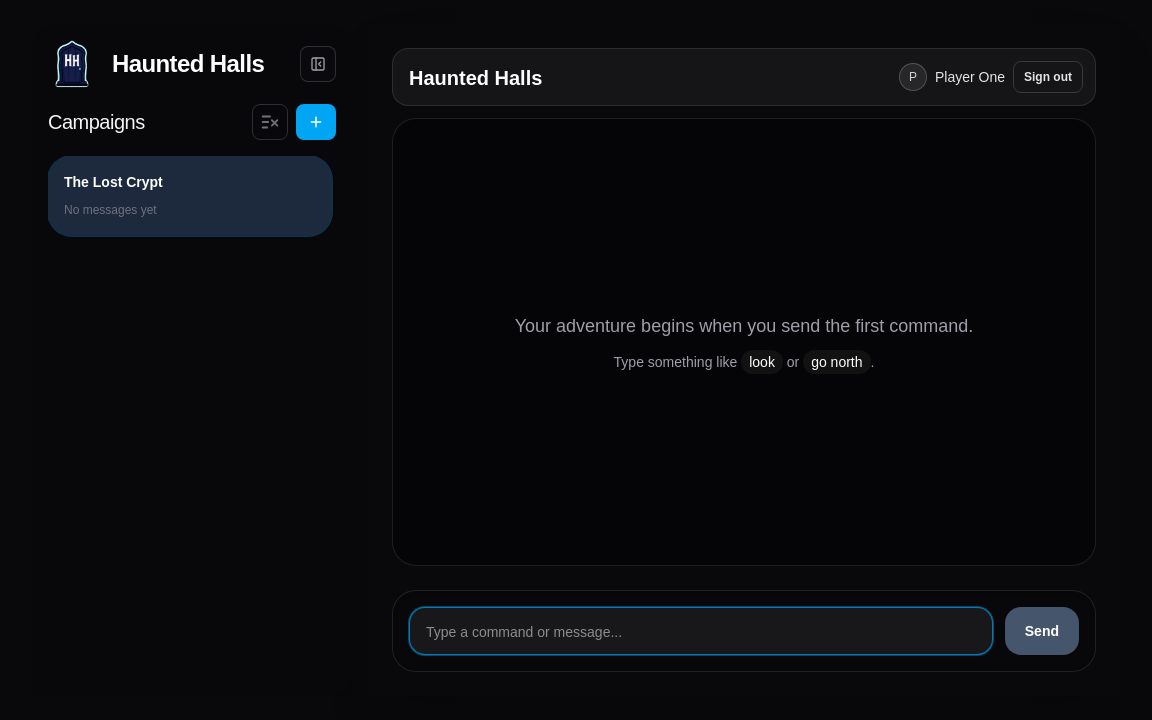
Test: home auth gating › keeps the composer enabled and focused while a narration request is in flight
The image size is (1152, 720).
In the text box named "Enter your command": (701,631) x1=409 y1=607 x2=993 y2=655, type "look around"
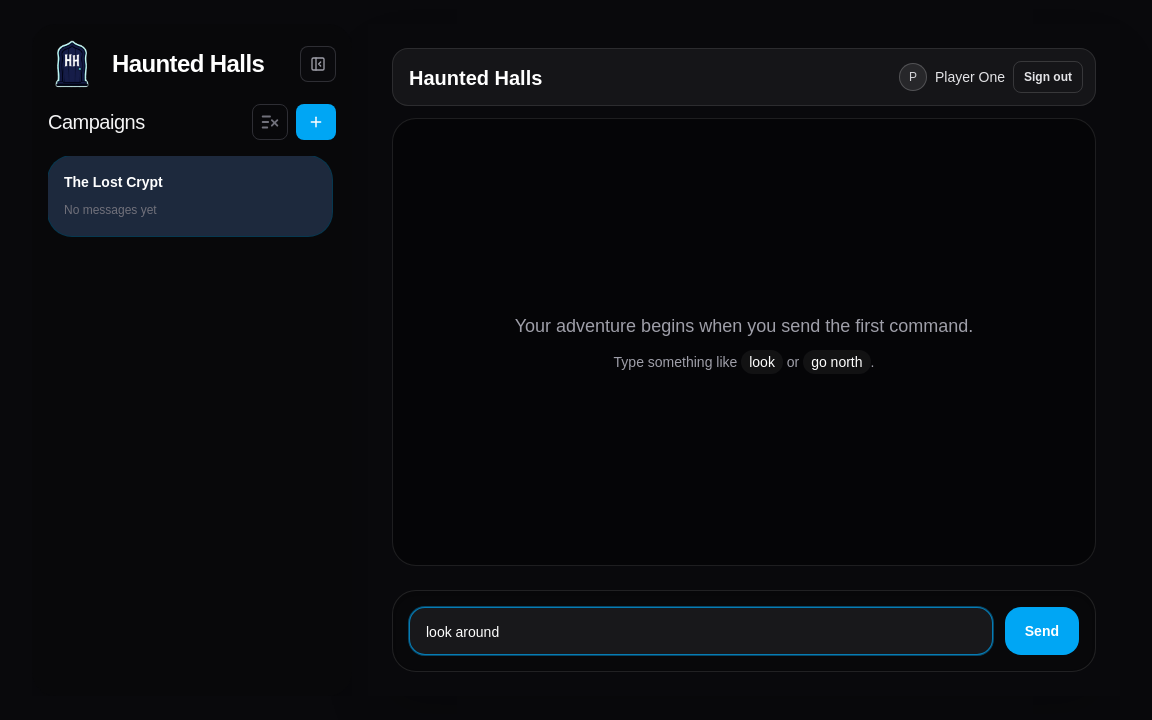
Click the button "Send": (1042,631) x1=1005 y1=607 x2=1079 y2=655
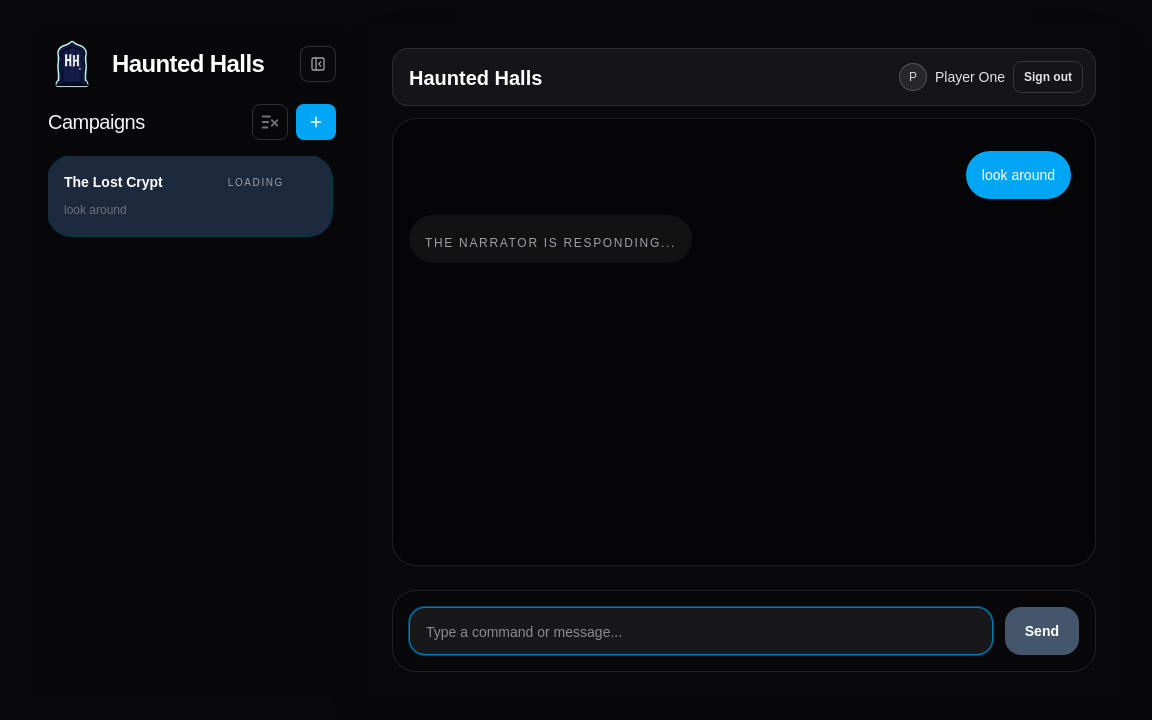
Check: the text "look around" below "Campaigns" is shown, box x1=64 y1=203 x2=127 y2=217
Check: the text "The narrator is responding..." is shown, box x1=425 y1=235 x2=676 y2=251
Check: the button "Send" is disabled, box x1=1005 y1=607 x2=1079 y2=655
In the text box named "Enter your command": (701,631) x1=409 y1=607 x2=993 y2=655, type "go north"
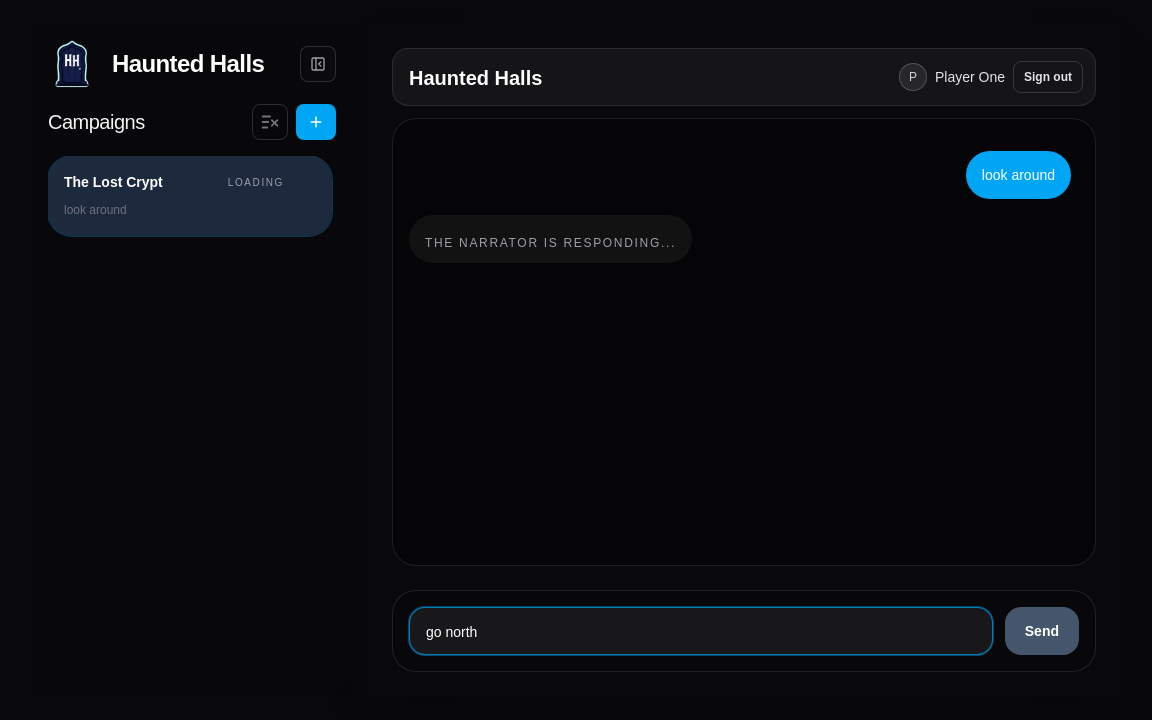
Press Enter in the text box named "Enter your command", box x1=409 y1=607 x2=993 y2=655
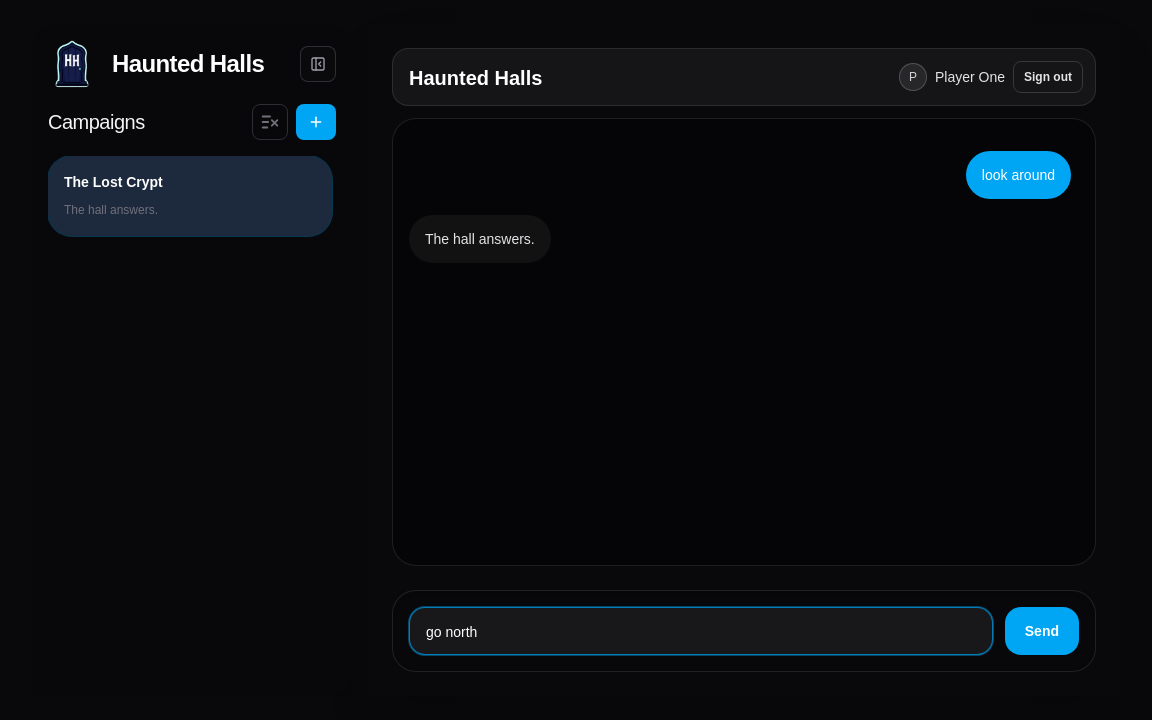
Check: the text "The hall answers." below "Campaigns" is shown, box x1=64 y1=203 x2=158 y2=217
Check: the button "Send" is enabled, box x1=1005 y1=607 x2=1079 y2=655
